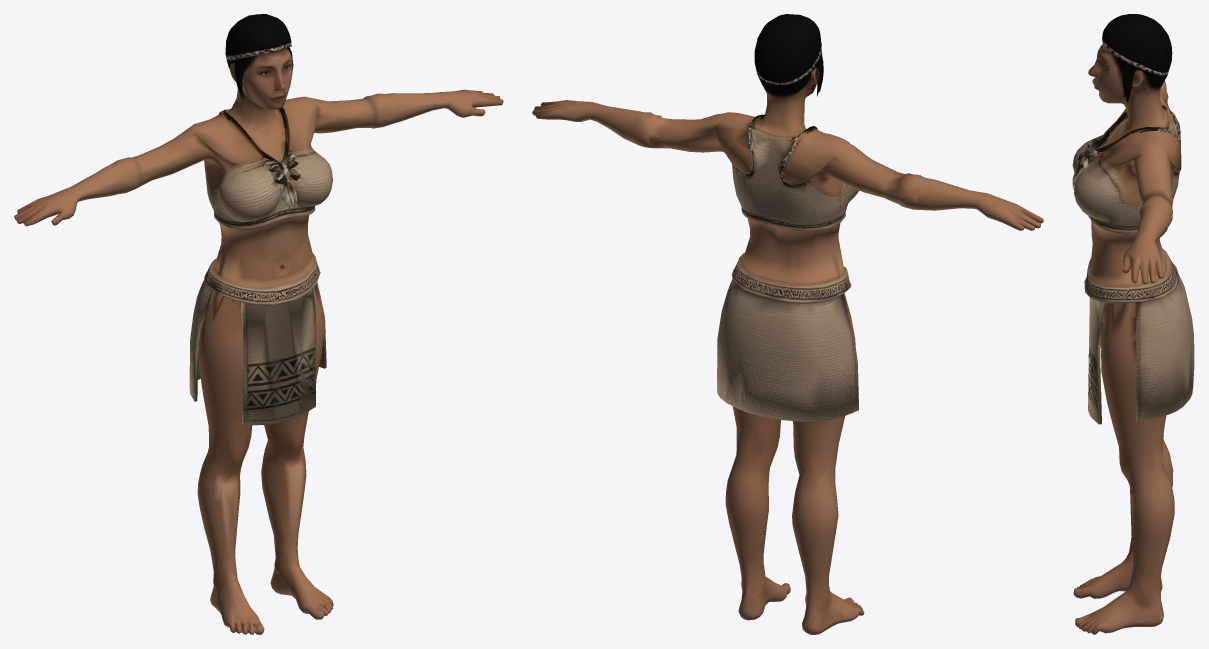
The model's file is U1111ntitled.fbx.
3 views of the same model, side by side, from view 1: azimuth 30°, elevation 25°; view 2: azimuth 150°, elevation 25°; view 3: azimuth 270°, elevation 25° (orthographic). The views are drawn at different scales.
Parts seen in each view (by area): view 1: tripo_node_cc9e5d37; view 2: tripo_node_cc9e5d37; view 3: tripo_node_cc9e5d37.
Boxes of the visible parts, <box> form: tripo_node_cc9e5d37: <box>14,14,503,634</box>; tripo_node_cc9e5d37: <box>532,14,1043,634</box>; tripo_node_cc9e5d37: <box>1072,14,1194,634</box>.
Bounding box in the file's own units: 86.65 × 100 × 18.61.
1 material, 1 textured.
